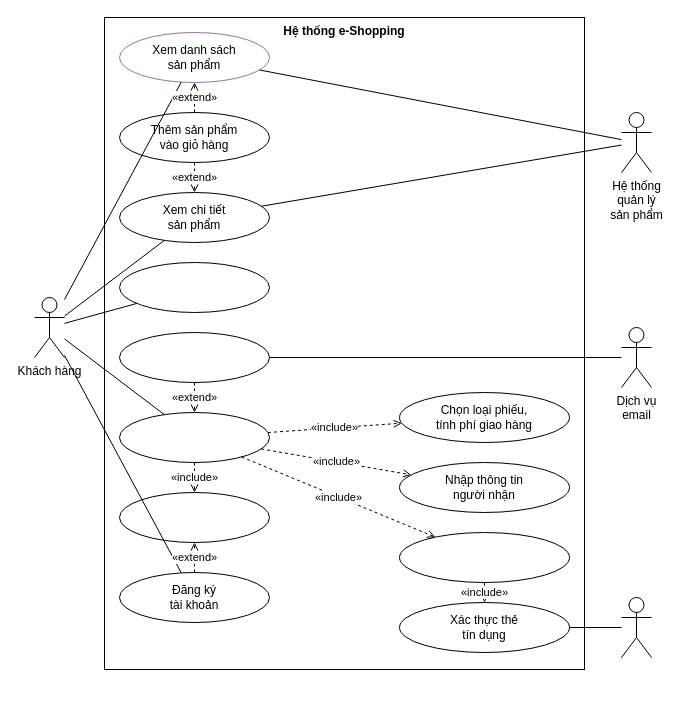
The diagram is 682 pixels wide and 725 high, and some of its shapes have lost their labels. Each missing label, with the centre of its shape:
Dịch vụ thanh toán trực tuyến: the point at 636,627
Gửi email xác nhận: the point at 194,357
Quản lý giỏ hàng: the point at 194,287
Thanh toán bằng thẻ tín dụng: the point at 484,557
Đăng nhập: the point at 194,517
Đặt hàng và tính tiền: the point at 194,437
